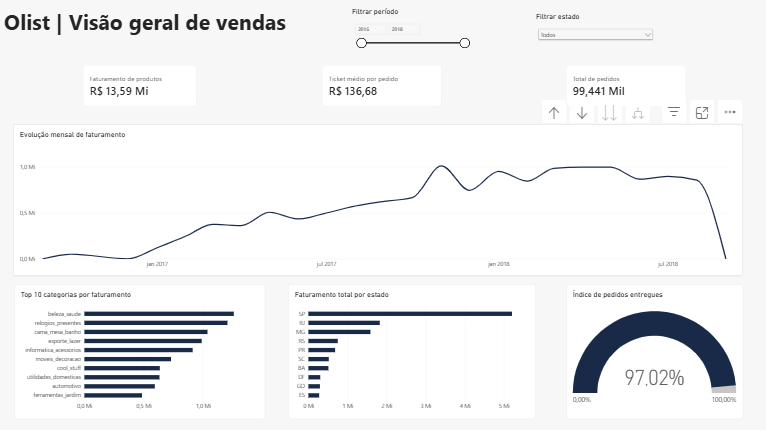

The dashboard page shown, as its layout file describes it:
{"tool":"powerbi","page":{"name":"Visão Geral","canvas":[1920,1080],"ordinal":0},"visuals":[{"type":"textbox","box":[15.2,21.7,709.2,78.1],"z":0},{"type":"cardVisual","fields":{"Data":["Medidas.FaturamentoTotal"]},"box":[212,168,284.1,104.1],"z":1000},{"type":"cardVisual","fields":{"Data":["Medidas.TicketMedio"]},"box":[810,168,299.3,104.1],"z":2000},{"type":"cardVisual","fields":{"Data":["Count(pedidos.order_id)"]},"box":[1420,168,300,105],"z":3000},{"type":"slicer","title":"Filtrar período","fields":{"Values":["pedidos.order_purchase_timestamp.Variação.Hierarquia de datas.Ano"]},"box":[886,22,297.7,119.1],"z":4000},{"type":"slicer","title":"Filtrar estado","fields":{"Values":["clientes.customer_state"]},"box":[1346,36,297.7,89.3],"z":5000},{"type":"lineChart","title":"Evolução mensal de faturamento","fields":{"Category":["pedidos.order_purchase_timestamp.Variação.Hierarquia de datas.Ano","pedidos.order_purchase_timestamp.Variação.Hierarquia de datas.Mês"],"Y":["Sum(itens.price)"]},"box":[38,314,1824,382],"z":6000},{"type":"clusteredBarChart","title":"Top 10 categorias por faturamento","fields":{"Category":["produtos.product_category_name"],"Y":["Medidas.FaturamentoTotal"]},"box":[40,715,627.5,337.5],"z":7000},{"type":"clusteredBarChart","title":"Faturamento total por estado","fields":{"Category":["clientes.customer_state"],"Y":["Medidas.FaturamentoTotal"]},"box":[725,715,620,337.5],"z":8000},{"type":"gauge","title":"Índice de pedidos entregues","fields":{"Y":["Medidas.Taxa de Entrega"]},"box":[1420,715,442.5,337.5],"z":9000}]}

Visuals, with their boxes in screenshot pixels (x1, y1, x2, y2), scaled from the page's 1920x1080 canvas onto the 766x430 screenshot:
textbox: select_region(6, 9, 289, 40)
cardVisual - Medidas.FaturamentoTotal: select_region(85, 67, 198, 108)
cardVisual - Medidas.TicketMedio: select_region(323, 67, 443, 108)
cardVisual - Count(pedidos.order_id): select_region(567, 67, 686, 109)
"Filtrar período" slicer: select_region(353, 9, 472, 56)
"Filtrar estado" slicer: select_region(537, 14, 656, 50)
"Evolução mensal de faturamento" lineChart: select_region(15, 125, 743, 277)
"Top 10 categorias por faturamento" clusteredBarChart: select_region(16, 285, 266, 419)
"Faturamento total por estado" clusteredBarChart: select_region(289, 285, 537, 419)
"Índice de pedidos entregues" gauge: select_region(567, 285, 743, 419)
